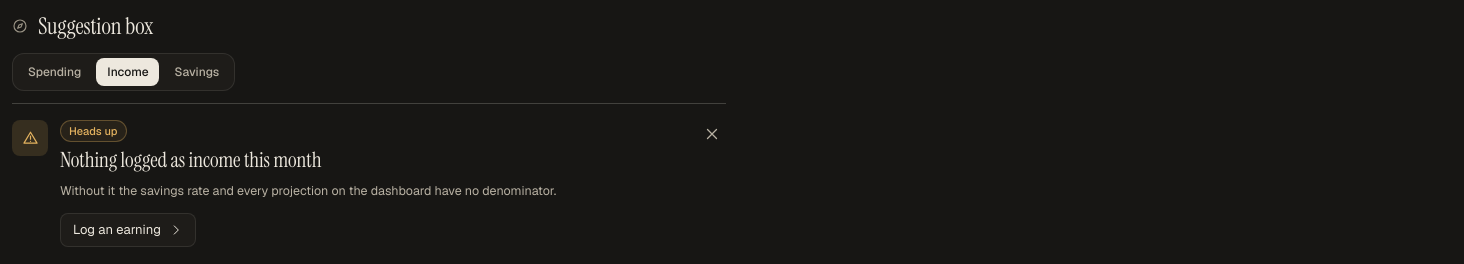
Test case: one box, several sections › counts dismissals per section
Click the button named "Dismiss".
click(712, 134)  # box [694, 116, 730, 152]
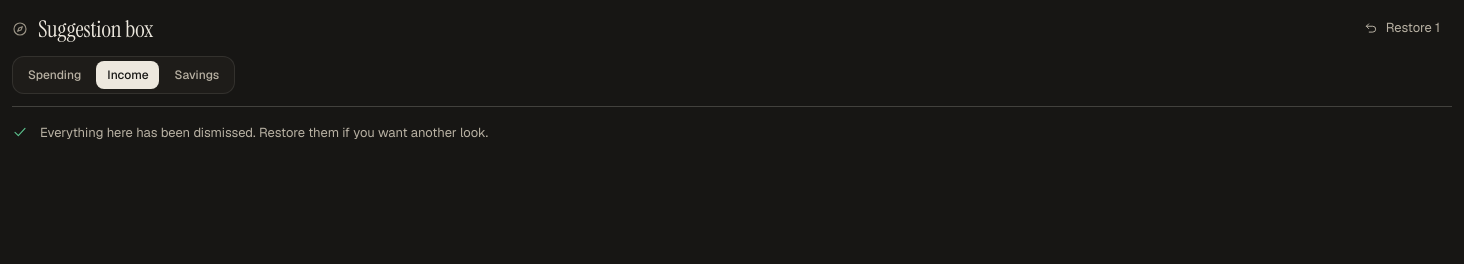
Now the button "Restore 1" is shown, box [1352, 12, 1452, 44]
Click the tab "Spending".
click(55, 74)  # box [17, 60, 92, 88]
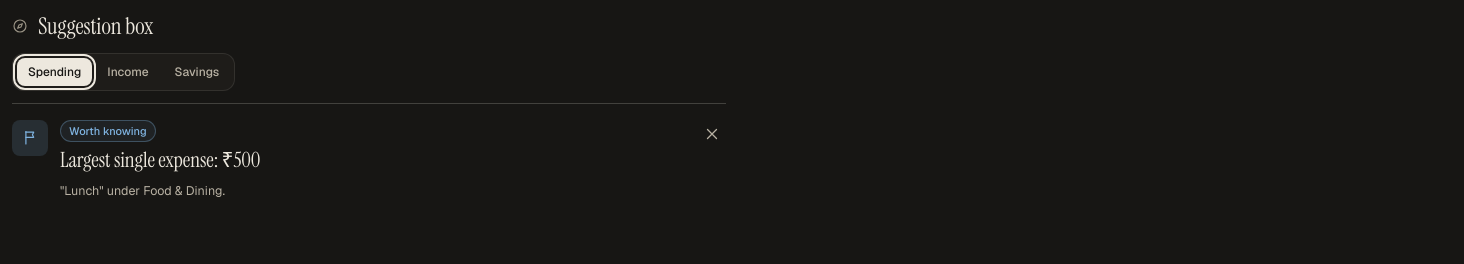
Now the button "Restore" is gone
